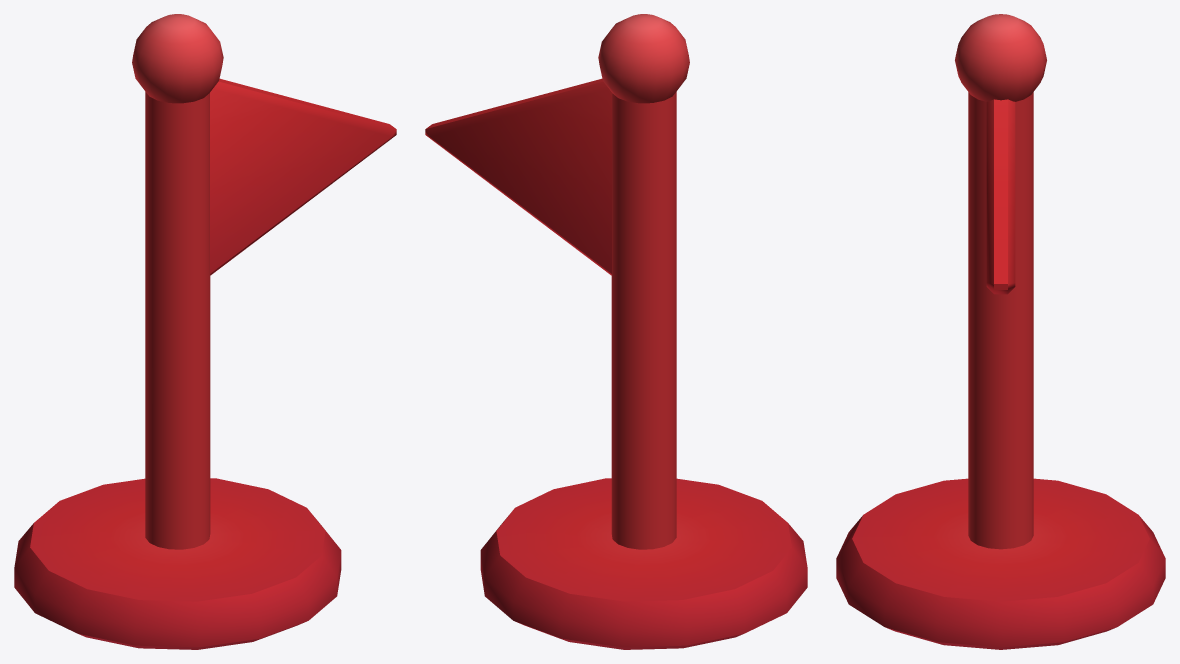
File: flag-a-red.glb
3 views of the same model, side by side, from view 1: azimuth 30°, elevation 25°; view 2: azimuth 150°, elevation 25°; view 3: azimuth 270°, elevation 25° (orthographic).
Visible parts, largest first — view 1: flag_A_red; view 2: flag_A_red; view 3: flag_A_red.
Part boxes in pixels (box(x1,y1,x2,y2)): flag_A_red: box(14, 14, 396, 649); flag_A_red: box(425, 14, 807, 649); flag_A_red: box(836, 14, 1165, 649).
Size of the model in its own units: 0.9404 by 1.43 by 0.75.
1 material, 1 textured.
